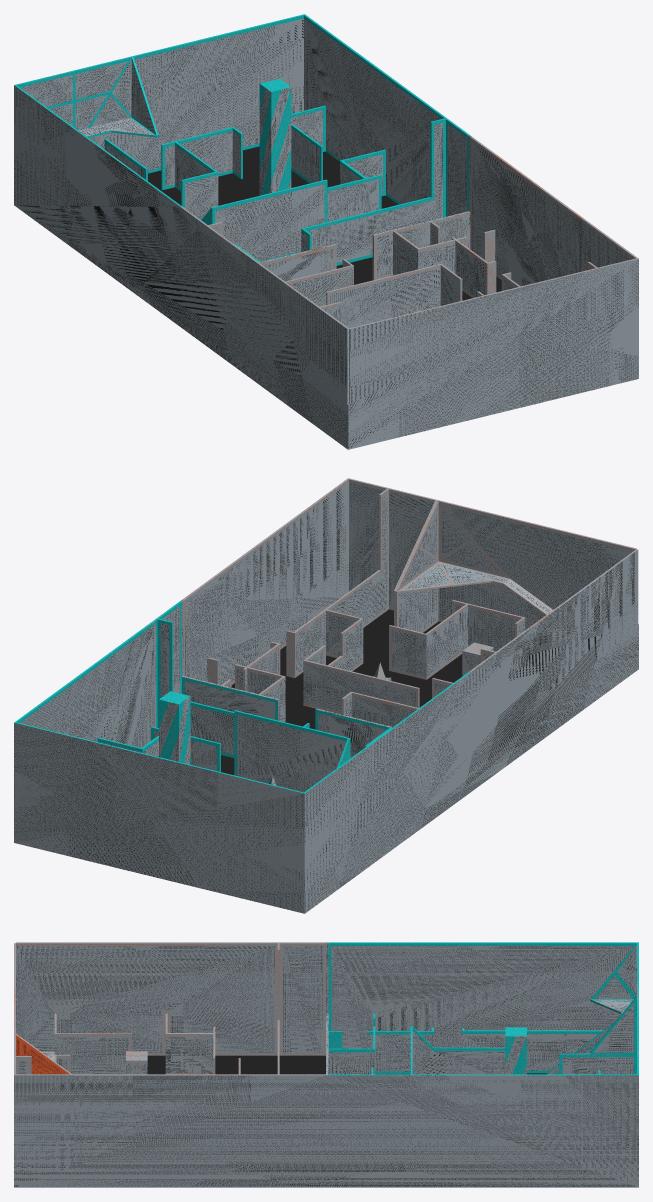
The model's file is ISOs_Map_1.fbx.
3 views of the same model, one above another, from view 1: azimuth 30°, elevation 25°; view 2: azimuth 150°, elevation 25°; view 3: azimuth 270°, elevation 25° (orthographic). The views are drawn at different scales.
Parts seen in each view (by area): view 1: Model; view 2: Model; view 3: Model.
Boxes of the visible parts, box(x1,y1,x2,y2) form: Model: box(14, 14, 638, 449); Model: box(14, 478, 638, 913); Model: box(14, 942, 638, 1187).
Size of the model in its own units: 12524 by 4945 by 24925.
